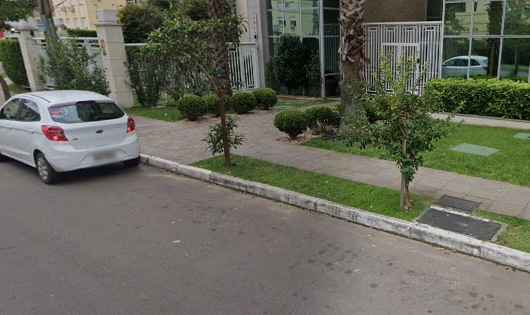vag68: (146, 127, 501, 273)
